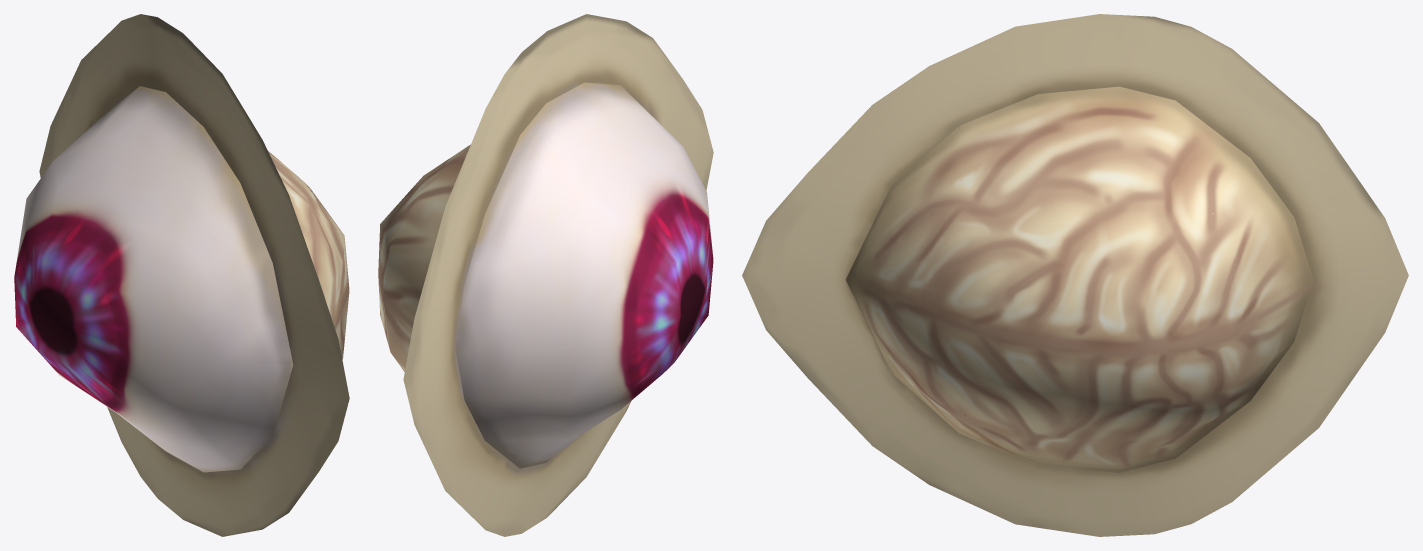
File: sentry.fbx
The picture shows the model from 3 angles, left to right: view 1: azimuth 30°, elevation 25°; view 2: azimuth 150°, elevation 25°; view 3: azimuth 270°, elevation 25°; orthographic projection. The views are drawn at different scales.
Visible parts, largest first — view 1: Sphere.002; view 2: Sphere.002; view 3: Sphere.002.
Boxes of the visible parts, box(x1,y1,x2,y2) form: Sphere.002: box(14, 14, 349, 536); Sphere.002: box(378, 14, 713, 536); Sphere.002: box(742, 14, 1408, 536).
Size of the model in its own units: 197 by 320 by 370.
1 material, 1 textured.
